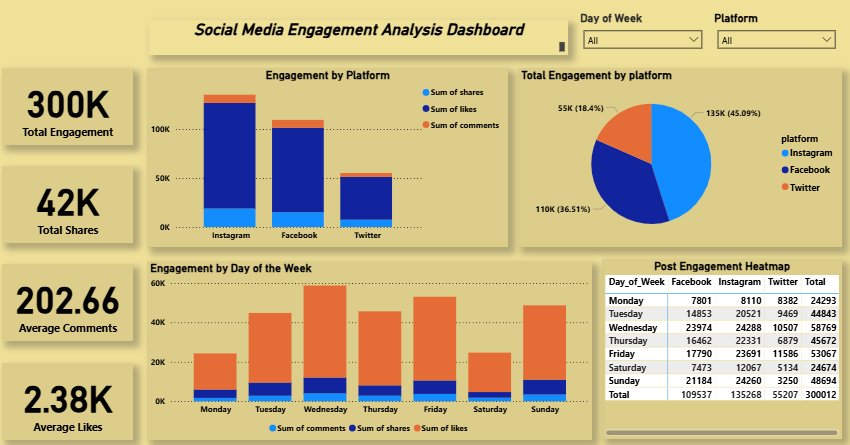

Layout of this report page (visuals, bound fields, positions):
{"tool":"powerbi","page":{"name":"Page 2","canvas":[1280,720],"ordinal":1},"visuals":[{"type":"columnChart","title":"Engagement by Platform","fields":{"Category":["social_media_engagement1.platform"],"Y":["Sum(social_media_engagement1.shares)","Sum(social_media_engagement1.likes)","Sum(social_media_engagement1.comments)"]},"box":[223.5,150.7,540.1,267.5],"z":0},{"type":"card","fields":{"Values":["social_media_engagement1.Average Comments"]},"box":[6.8,444.2,196.4,115.1],"z":1000},{"type":"card","fields":{"Values":["social_media_engagement1.Average Likes"]},"box":[6.8,590.9,196.4,115.1],"z":2000},{"type":"card","fields":{"Values":["social_media_engagement1.Total Shares"]},"box":[6.8,297.4,196.4,115.1],"z":3000},{"type":"slicer","title":"Platform","fields":{"Values":["social_media_engagement1.platform"]},"box":[1066.6,65.7,195.7,65.7],"z":4000},{"type":"slicer","title":"Day of Week","fields":{"Values":["social_media_engagement1.Day_of_Week"]},"box":[866.4,65.7,197.2,65.7],"z":5000},{"type":"card","fields":{"Values":["social_media_engagement1.Total Engagement"]},"box":[6.8,150.7,196.4,115.1],"z":6000},{"type":"pieChart","fields":{"Category":["social_media_engagement1.platform"],"Y":["social_media_engagement1.Total Engagement"]},"box":[778.8,150.7,484.2,267.5],"z":7000},{"type":"columnChart","title":"Engagement by Day of the Week","fields":{"Category":["social_media_engagement1.Day_of_Week"],"Y":["Sum(social_media_engagement1.comments)","Sum(social_media_engagement1.shares)","Sum(social_media_engagement1.likes)"]},"box":[223.5,438.5,665.4,267.5],"z":8000},{"type":"pivotTable","title":"Post Engagement Heatmap","fields":{"Columns":["social_media_engagement1.platform"],"Values":["social_media_engagement1.Total Engagement"],"Rows":["social_media_engagement1.Day_of_Week"]},"box":[904.1,436.8,358.9,269.2],"z":9000},{"type":"textbox","title":"Social Media Engagement Analysis Dashboard","box":[227.1,79.2,625.9,52.3],"z":10000}]}

Visuals, with their boxes on the page's 1280x720 design canvas (x1, y1, x2, y2). These are canvas units, not pixel positions in the 850x445 screenshot, which may show the page scaled, cropped or inside an application window:
"Engagement by Platform" columnChart: <bbox>224, 151, 764, 418</bbox>
card - social_media_engagement1.Average Comments: <bbox>7, 444, 203, 559</bbox>
card - social_media_engagement1.Average Likes: <bbox>7, 591, 203, 706</bbox>
card - social_media_engagement1.Total Shares: <bbox>7, 297, 203, 412</bbox>
"Platform" slicer: <bbox>1067, 66, 1262, 131</bbox>
"Day of Week" slicer: <bbox>866, 66, 1064, 131</bbox>
card - social_media_engagement1.Total Engagement: <bbox>7, 151, 203, 266</bbox>
pieChart - social_media_engagement1.platform x social_media_engagement1.Total Engagement: <bbox>779, 151, 1263, 418</bbox>
"Engagement by Day of the Week" columnChart: <bbox>224, 438, 889, 706</bbox>
"Post Engagement Heatmap" pivotTable: <bbox>904, 437, 1263, 706</bbox>
"Social Media Engagement Analysis Dashboard" textbox: <bbox>227, 79, 853, 132</bbox>
